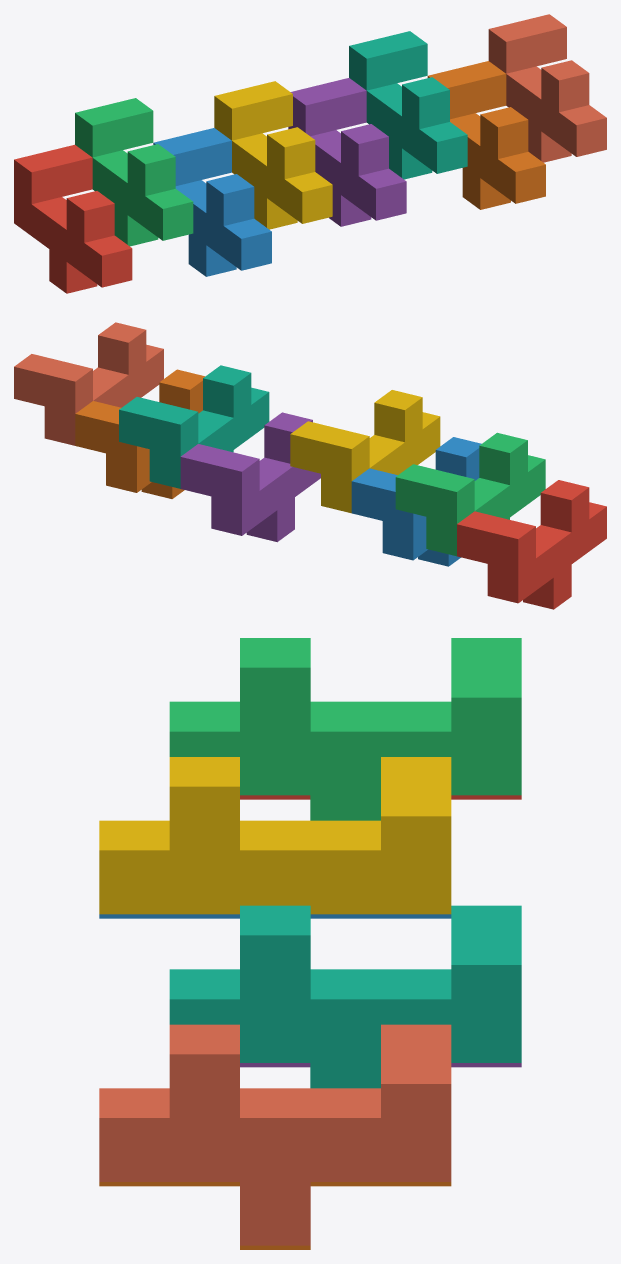
Rendered from tiling.obj.
3 renders of one model, top to bottom at view 1: azimuth 30°, elevation 25°; view 2: azimuth 150°, elevation 25°; view 3: azimuth 270°, elevation 25°, orthographic. The views are drawn at different scales.
Parts seen in each view (by area): view 1: copy_1_domain_1, copy_1_domain_3, copy_1_domain_4, copy_1_domain_8, copy_1_domain_7, copy_1_domain_5, copy_1_domain_2, copy_1_domain_6; view 2: copy_1_domain_1, copy_1_domain_5, copy_1_domain_7, copy_1_domain_3, copy_1_domain_4, copy_1_domain_8, copy_1_domain_2, copy_1_domain_6; view 3: copy_1_domain_8, copy_1_domain_4, copy_1_domain_7, copy_1_domain_3, copy_1_domain_6, copy_1_domain_2.
Boxes of the visible parts, box(x1,y1,x2,y2) form: copy_1_domain_1: box(14, 144, 132, 293); copy_1_domain_3: box(75, 98, 193, 246); copy_1_domain_4: box(214, 81, 332, 229); copy_1_domain_8: box(488, 14, 606, 162); copy_1_domain_7: box(349, 31, 467, 179); copy_1_domain_5: box(288, 78, 406, 226); copy_1_domain_2: box(153, 128, 271, 276); copy_1_domain_6: box(427, 61, 545, 209); copy_1_domain_1: box(457, 480, 606, 609); copy_1_domain_5: box(180, 412, 320, 542); copy_1_domain_7: box(119, 365, 269, 488); copy_1_domain_3: box(395, 432, 545, 556); copy_1_domain_4: box(290, 390, 440, 513); copy_1_domain_8: box(14, 322, 163, 445); copy_1_domain_2: box(351, 437, 481, 566); copy_1_domain_6: box(75, 369, 204, 498); copy_1_domain_8: box(99, 1024, 451, 1245); copy_1_domain_4: box(99, 757, 451, 914); copy_1_domain_7: box(169, 905, 521, 1088); copy_1_domain_3: box(169, 638, 521, 820); copy_1_domain_6: box(99, 1182, 451, 1249); copy_1_domain_2: box(99, 914, 451, 918).
Bounding box in the file's own units: 17 × 4 × 6.
